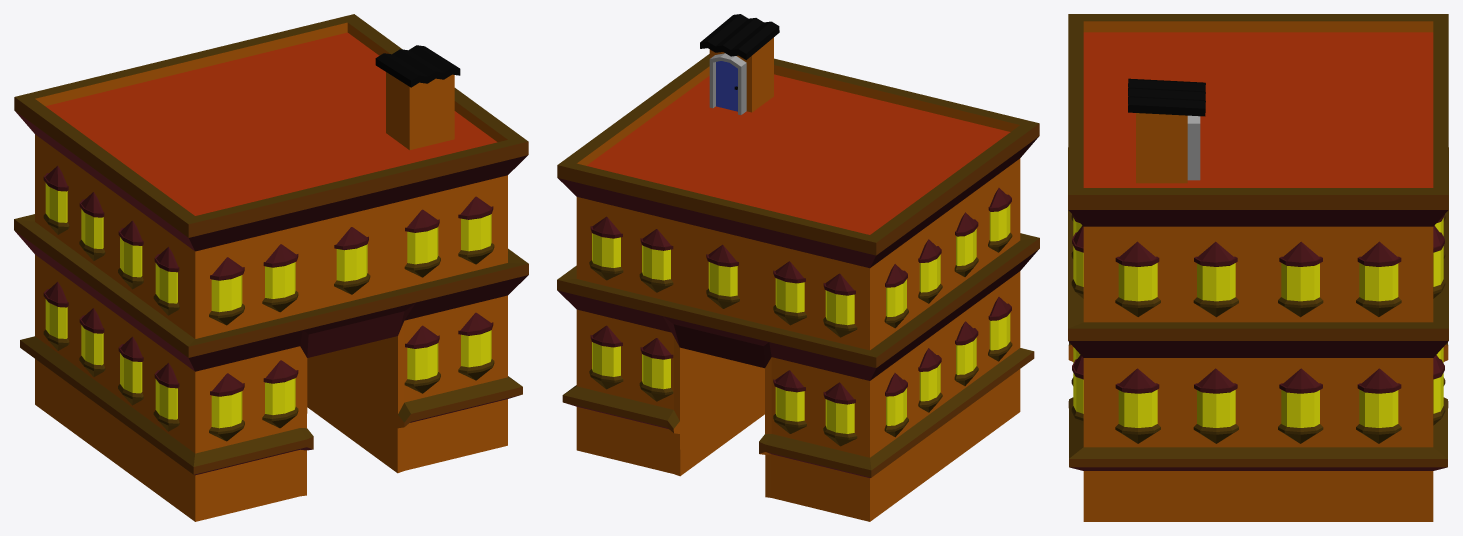
Rendered from Hoteu.fbx.
3 views of the same model, side by side, from view 1: azimuth 30°, elevation 25°; view 2: azimuth 150°, elevation 25°; view 3: azimuth 270°, elevation 25° (orthographic). The views are drawn at different scales.
Visible parts, largest first — view 1: Hoteu; view 2: Hoteu; view 3: Hoteu.
Boxes of the visible parts, x1,y1,x2,y2 form: Hoteu: (14, 14, 528, 521); Hoteu: (557, 14, 1039, 521); Hoteu: (1068, 14, 1448, 521).
Size of the model in its own units: 1371 by 1434 by 1217.
